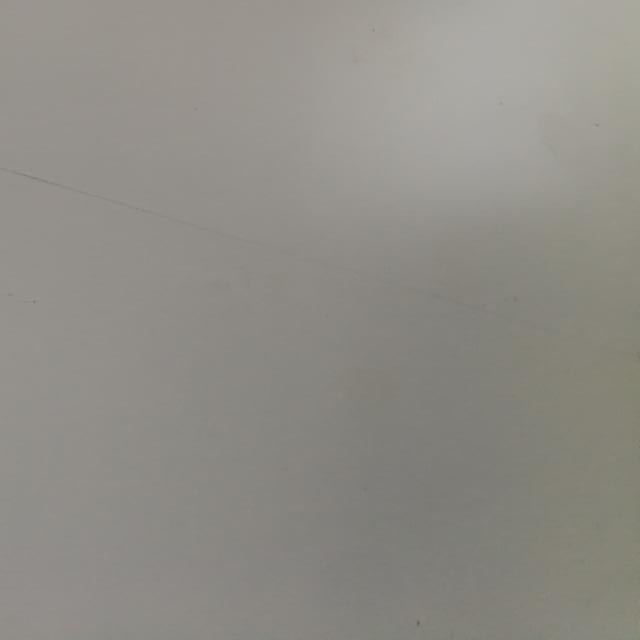fluorescent tube: (0, 0, 27, 308)
